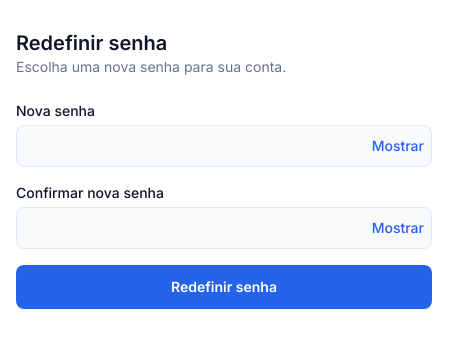
it: RedefinirSenha › token invalido/expirado (falha na API) troca para a tela de link invalido
In the password field labelled "Nova senha": {"x": 224, "y": 146} [16,125,432,167], type "NovaSenha@2026"
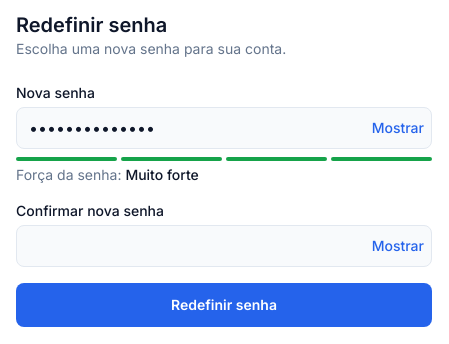
In the password field labelled "Confirmar nova senha": {"x": 224, "y": 246} [16,225,432,267], type "NovaSenha@2026"
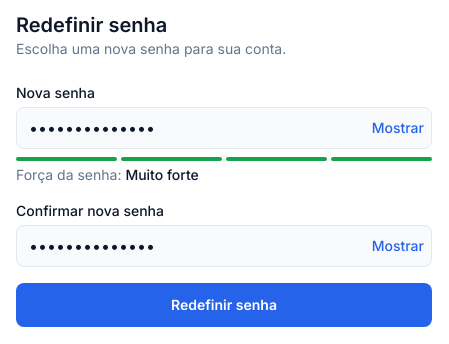
Click the button "Redefinir senha": {"x": 224, "y": 305} [16,283,432,327]
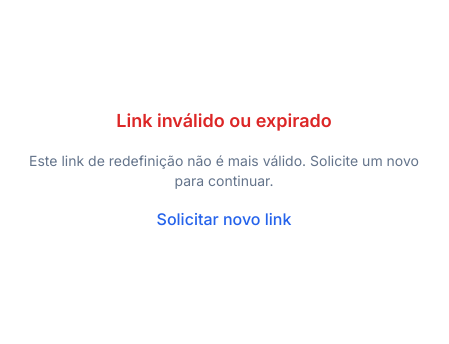
Check: the heading "Link inválido ou expirado" is shown, box [116,110,332,131]
Check: the link "Solicitar novo link" is shown, box [157,209,291,229]
